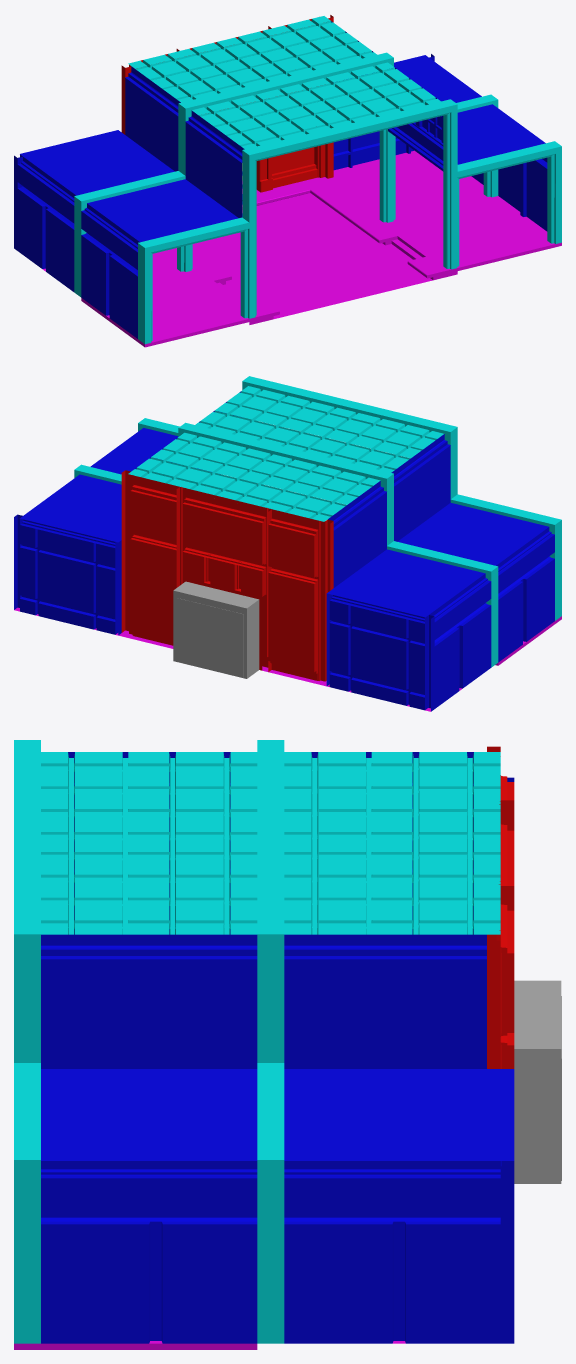
File: Dojo.fbx
3 renders of one model, top to bottom at view 1: azimuth 30°, elevation 25°; view 2: azimuth 150°, elevation 25°; view 3: azimuth 270°, elevation 25°, orthographic. The views are drawn at different scales.
Visible parts, largest first — view 1: Dojo_SideWallL_01, Dojo_SideWallL_02, Dojo_FloorPlatformR_wStairs, Dojo_FloorPlatformR, Dojo_BeamL_02, Dojo_BeamR_02, Dojo_FloorPlatformL_wStairs, Dojo_SideWallR_02, Dojo_CealingR_01, Dojo_CealingR_02, Dojo_CealingL_01, Dojo_CealingL_02 (+15 smaller); view 2: Dojo_SideWallL_01, Dojo_SideWallL_02, Dojo_L_BackWall, Dojo_R_BackWall, Dojo_LargeBackWall_L, Dojo_LargeBackWall, Dojo_LargeBackWall_R, Dojo_FarBackWall, Dojo_CealingR_01, Dojo_CealingL_01, Dojo_CealingR_02, Dojo_CealingL_02 (+8 smaller); view 3: Dojo_SideWallR_01, Dojo_SideWallR_02, Dojo_SideWallR_Top_02, Dojo_SideWallR_Top_01, Dojo_CealingL_02, Dojo_CealingL_01, Dojo_CealingR_01, Dojo_CealingR_02, Dojo_BeamR_01, Dojo_BeamR_02, Dojo_FarBackWall, Dojo_LargeBackWall_R (+5 smaller).
Boxes of the visible parts, left/top/right/bottom form: Dojo_SideWallL_01: left=17, top=130, right=174, bottom=291; Dojo_SideWallL_02: left=81, top=179, right=238, bottom=338; Dojo_FloorPlatformR_wStairs: left=363, top=196, right=561, bottom=280; Dojo_FloorPlatformR: left=242, top=150, right=491, bottom=231; Dojo_BeamL_02: left=138, top=124, right=353, bottom=344; Dojo_BeamR_02: left=347, top=99, right=561, bottom=269; Dojo_FloorPlatformL_wStairs: left=81, top=265, right=279, bottom=347; Dojo_SideWallR_02: left=457, top=104, right=547, bottom=231; Dojo_CealingR_01: left=226, top=16, right=377, bottom=78; Dojo_CealingR_02: left=290, top=62, right=440, bottom=125; Dojo_CealingL_01: left=128, top=40, right=278, bottom=102; Dojo_CealingL_02: left=192, top=86, right=342, bottom=149; Dojo_SideWallL_01: left=327, top=549, right=491, bottom=708; Dojo_SideWallL_02: left=397, top=503, right=554, bottom=662; Dojo_L_BackWall: left=326, top=593, right=434, bottom=711; Dojo_R_BackWall: left=14, top=514, right=121, bottom=635; Dojo_LargeBackWall_L: left=268, top=509, right=333, bottom=681; Dojo_LargeBackWall: left=176, top=487, right=271, bottom=671; Dojo_LargeBackWall_R: left=121, top=470, right=179, bottom=645; Dojo_FarBackWall: left=173, top=581, right=259, bottom=678; Dojo_CealingR_01: left=128, top=432, right=282, bottom=497; Dojo_CealingL_01: left=226, top=456, right=380, bottom=521; Dojo_CealingR_02: left=195, top=386, right=345, bottom=448; Dojo_CealingL_02: left=293, top=410, right=443, bottom=472; Dojo_SideWallR_01: left=284, top=1069, right=514, bottom=1343; Dojo_SideWallR_02: left=41, top=1069, right=257, bottom=1343; Dojo_SideWallR_Top_02: left=41, top=934, right=257, bottom=1068; Dojo_SideWallR_Top_01: left=284, top=934, right=486, bottom=1068; Dojo_CealingL_02: left=41, top=752, right=257, bottom=849; Dojo_CealingL_01: left=284, top=752, right=500, bottom=849; Dojo_CealingR_01: left=284, top=843, right=500, bottom=934; Dojo_CealingR_02: left=41, top=843, right=257, bottom=934; Dojo_BeamR_01: left=257, top=837, right=284, bottom=1343; Dojo_BeamR_02: left=14, top=837, right=40, bottom=1343; Dojo_FarBackWall: left=514, top=980, right=561, bottom=1183; Dojo_LargeBackWall_R: left=487, top=904, right=514, bottom=1068.
Size of the model in its own units: 2040 by 795 by 1216.
